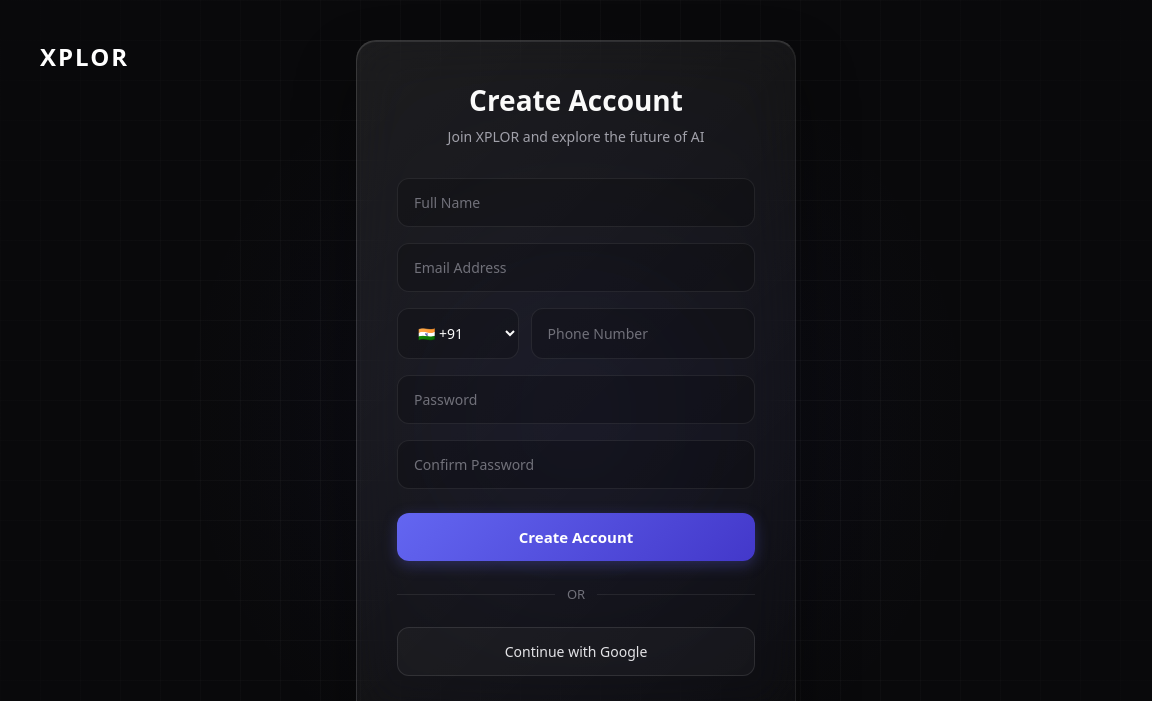
Test: Signup › checks the password rule and the confirmation before sending anything
The image size is (1152, 701).
Type "Ada Lovelace" into the field with placeholder "Full Name" at coordinates (576, 202), box [397,178,755,227]
Type "ada@example.test" into the field with placeholder "Email Address" at coordinates (576, 268), box [397,243,755,292]
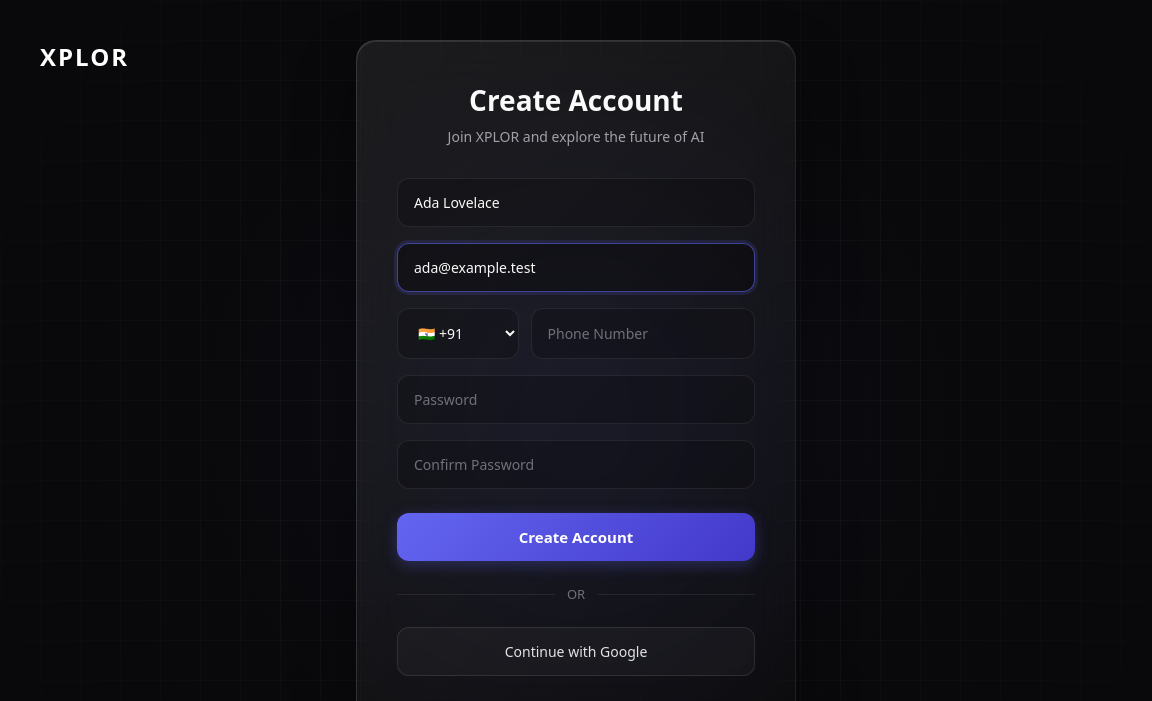
Select "🇬🇧 +44" in the dropdown at coordinates (458, 334), box [397,308,518,359]
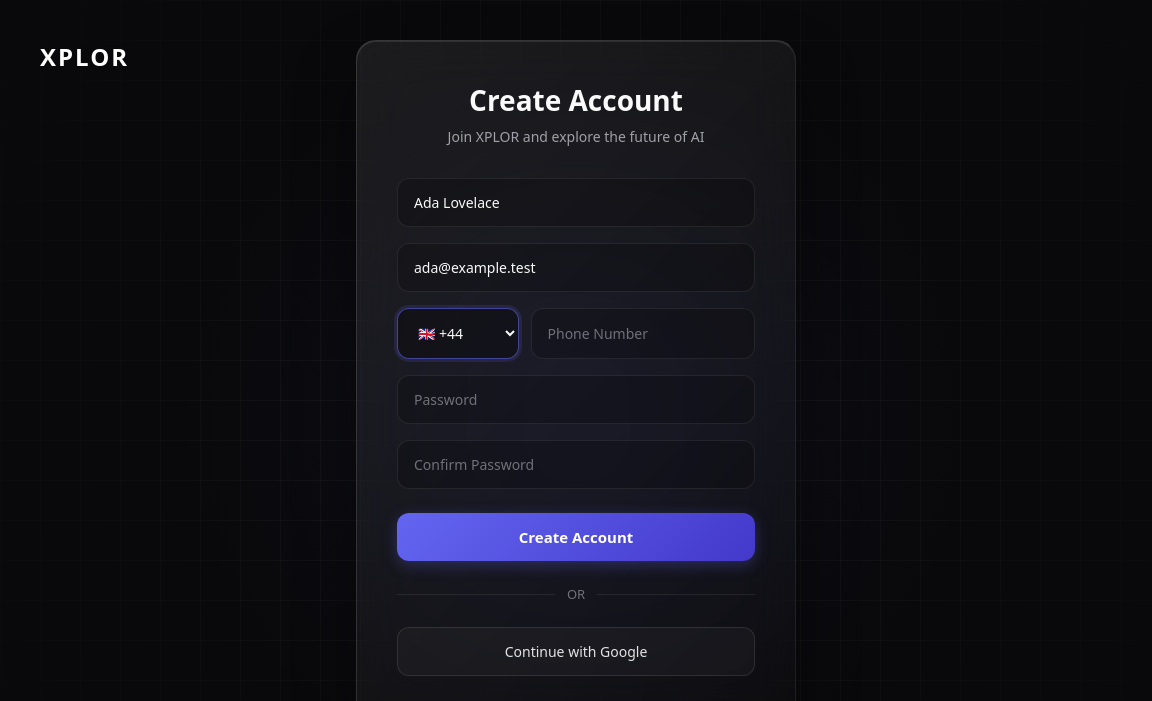
Type "7700900000" into the field with placeholder "Phone Number" at coordinates (643, 334), box [530,308,755,359]
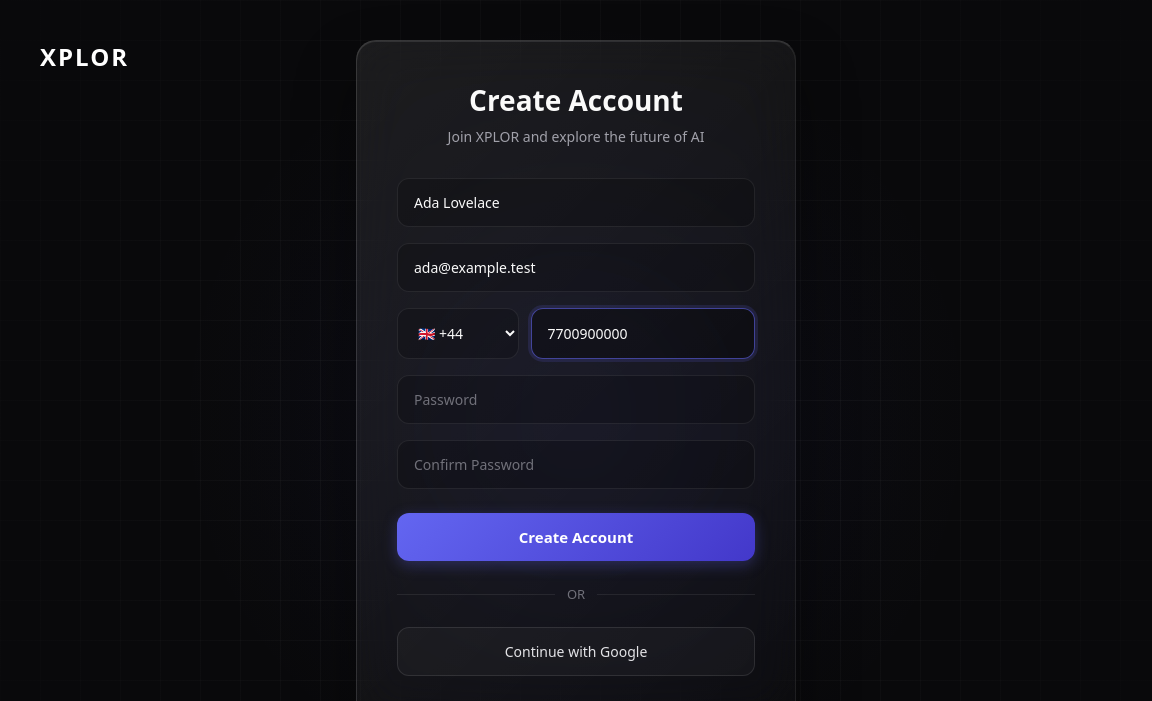
Type "weakpass" into the password field with placeholder "Password" at coordinates (576, 400), box [397,375,755,424]
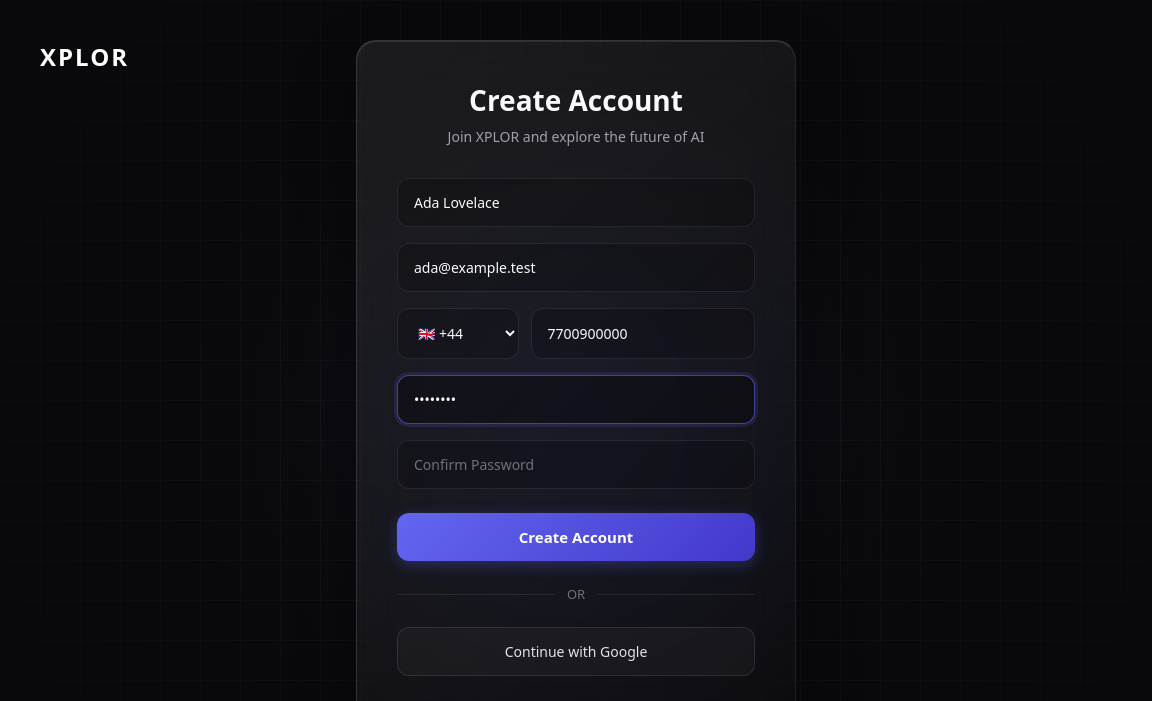
Type "weakpass" into the password field with placeholder "Confirm Password" at coordinates (576, 464), box [397,440,755,489]
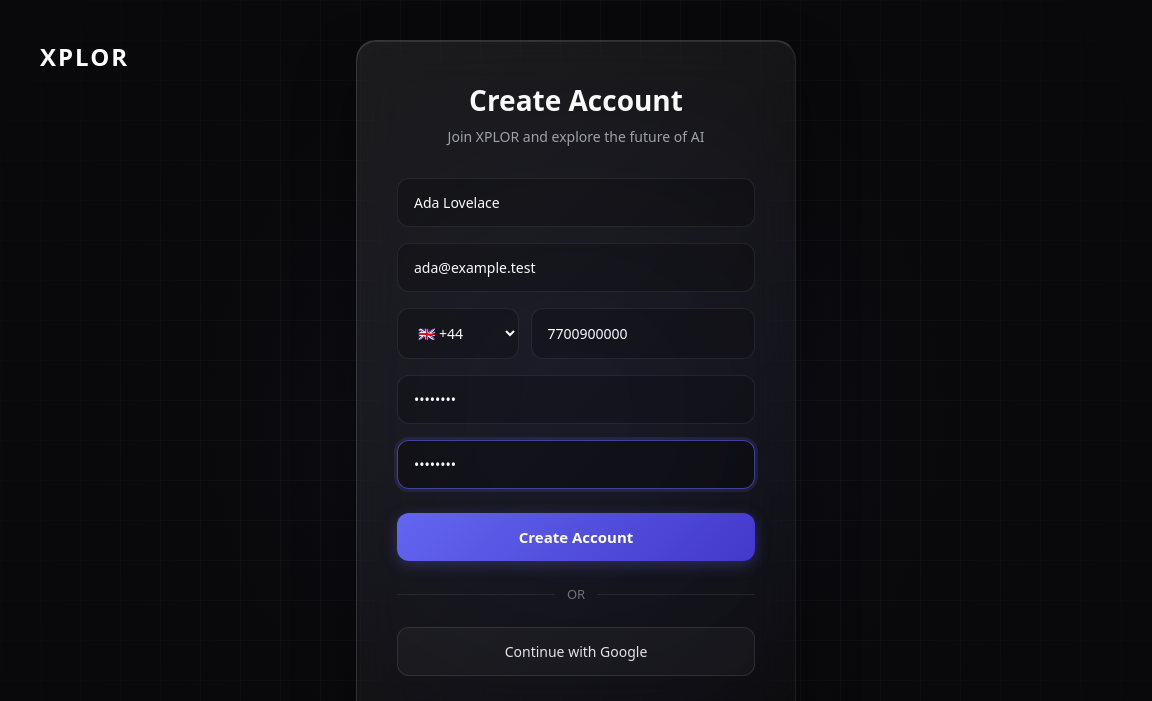
Click the button "Create Account" at coordinates (576, 537), box [397,513,755,561]
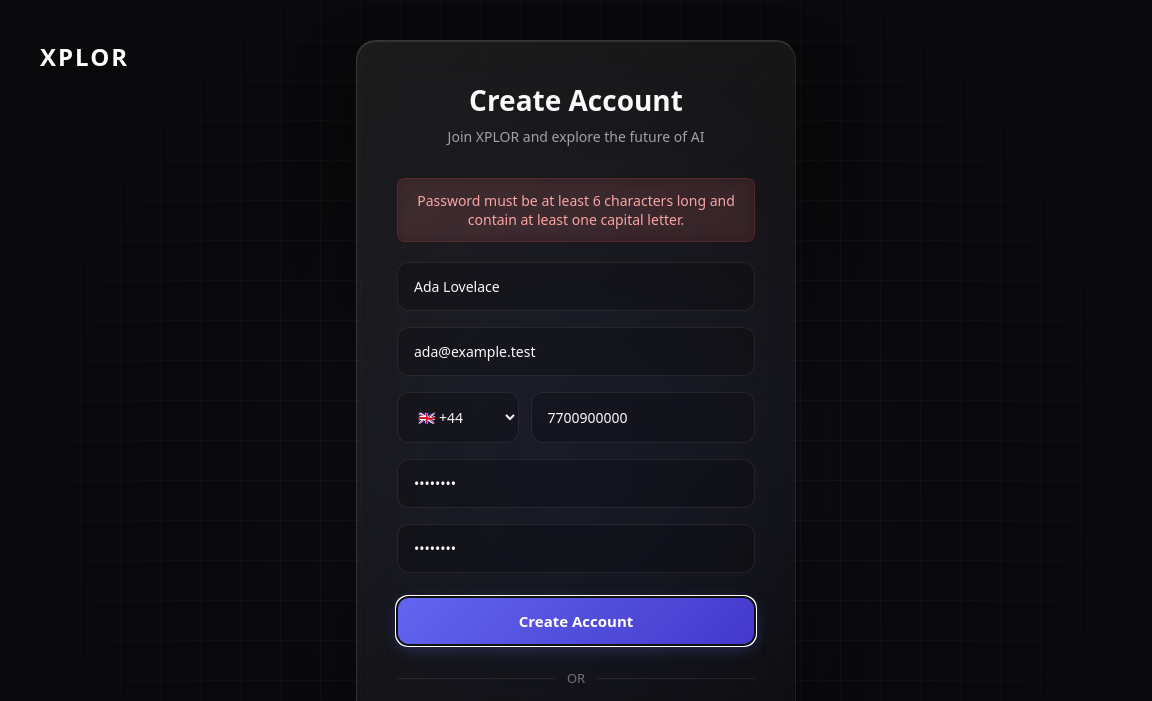
Now the message shows "at least one capital letter", box [417,191,735,229]
